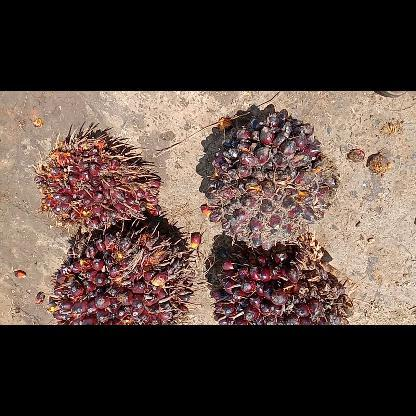Kurang masak: (204, 113, 336, 249), (48, 226, 210, 324), (32, 130, 162, 233), (211, 238, 353, 324)
